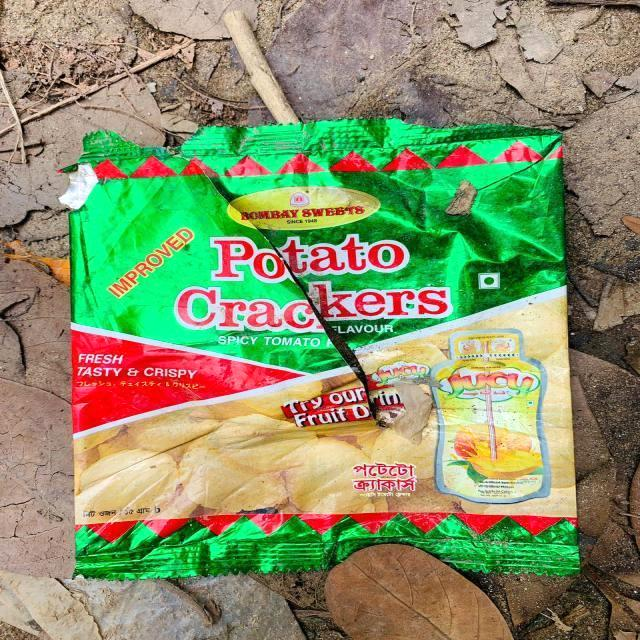packet: (64, 130, 589, 593)
